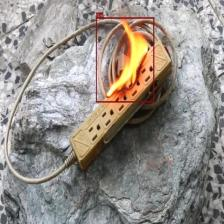fire: (96, 16, 154, 102)
